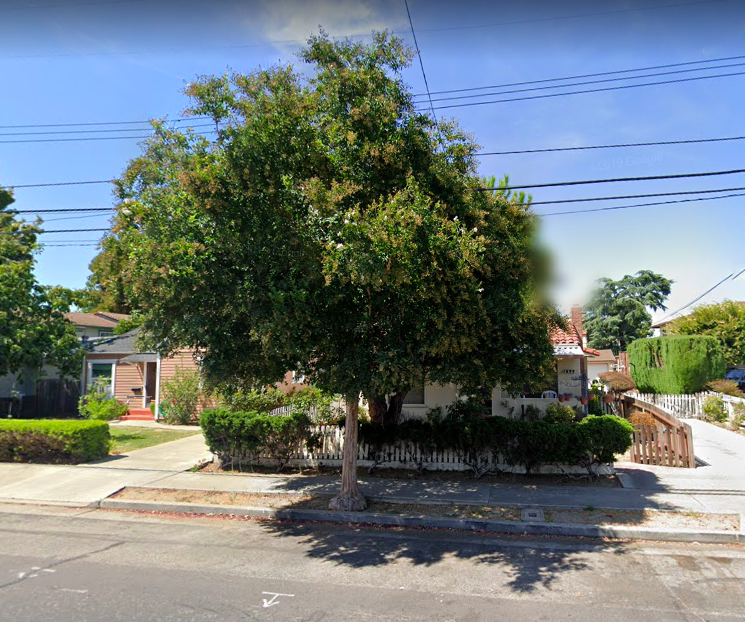tree: (94, 22, 559, 513)
